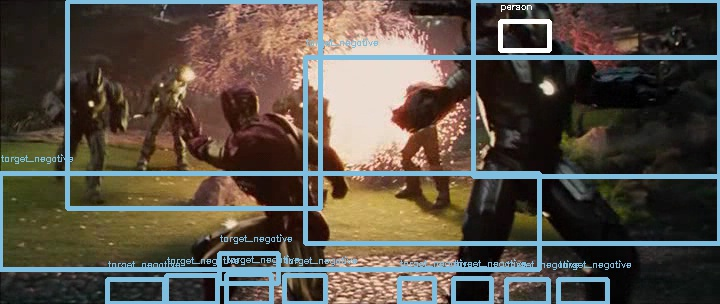person: (219, 82, 256, 127), (218, 82, 255, 127), (220, 82, 257, 127), (219, 81, 256, 126), (219, 83, 256, 128)
target_negative: (81, 138, 560, 232), (443, 210, 523, 285), (475, 170, 697, 192), (664, 1, 679, 204), (275, 292, 391, 299), (665, 253, 669, 276)
